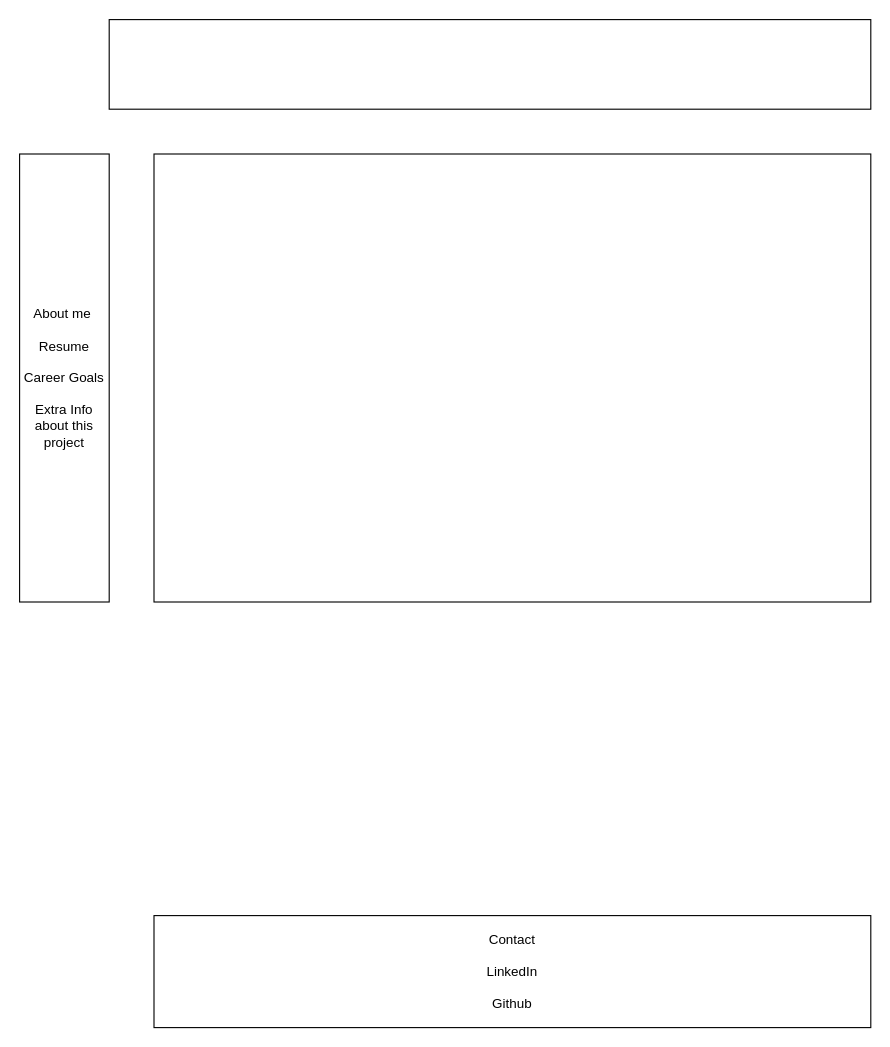
Some shapes in this 890 by 1047 pixel diagram are drawn without their labels. Each missing label, with the box of its shape:
Blake Morgan: (108, 18, 871, 109)
Content: (153, 153, 871, 602)
